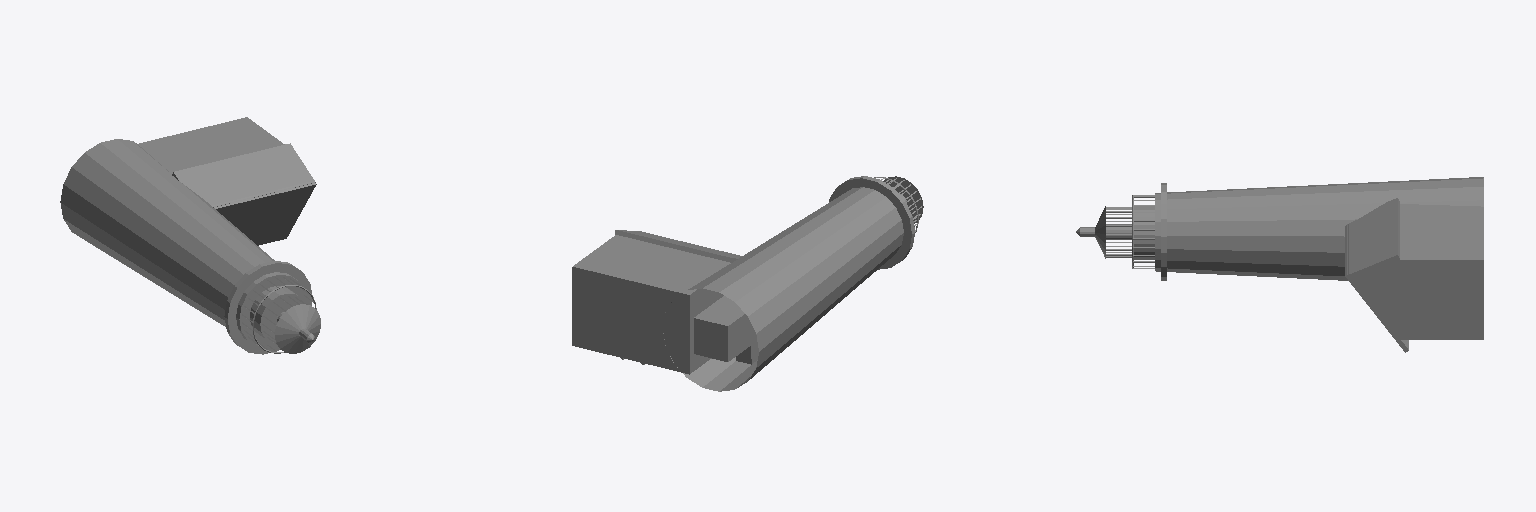
File: BeconTriangle.obj
3 renders of one model, left to right at view 1: azimuth 30°, elevation 25°; view 2: azimuth 150°, elevation 25°; view 3: azimuth 270°, elevation 25°, orthographic.
Visible parts, largest first — view 1: Shape01, Mesher03, Box01, Mesher02, Cylinder05, Cone01, Cylinder04; view 2: Shape01, Box01, Box03, Cylinder05, Mesher03, Cone01; view 3: Shape01, Box01, Mesher03, Mesher01, Cylinder04, Mesher02, Cylinder05, Cylinder01, Cylinder02.
Part boxes in pixels (x1,y1,x2,y2): Shape01: (60, 139, 306, 347); Mesher03: (172, 143, 315, 207); Box01: (138, 117, 284, 173); Mesher02: (212, 181, 316, 245); Cylinder05: (224, 261, 312, 354); Cone01: (275, 304, 320, 353); Cylinder04: (250, 286, 304, 343); Shape01: (663, 187, 903, 391); Box01: (572, 235, 730, 374); Box03: (694, 296, 756, 361); Cylinder05: (829, 176, 914, 269); Mesher03: (615, 230, 741, 262); Cone01: (883, 176, 923, 223); Shape01: (1155, 177, 1483, 280); Box01: (1397, 204, 1483, 339); Mesher03: (1347, 198, 1399, 278); Mesher01: (1349, 259, 1399, 333); Cylinder04: (1134, 206, 1154, 259); Mesher02: (1345, 224, 1408, 352); Cylinder05: (1161, 183, 1166, 280); Cylinder01: (1106, 207, 1131, 257); Cylinder02: (1132, 195, 1154, 268).
Bounding box in the file's own units: 136 × 71.31 × 257.